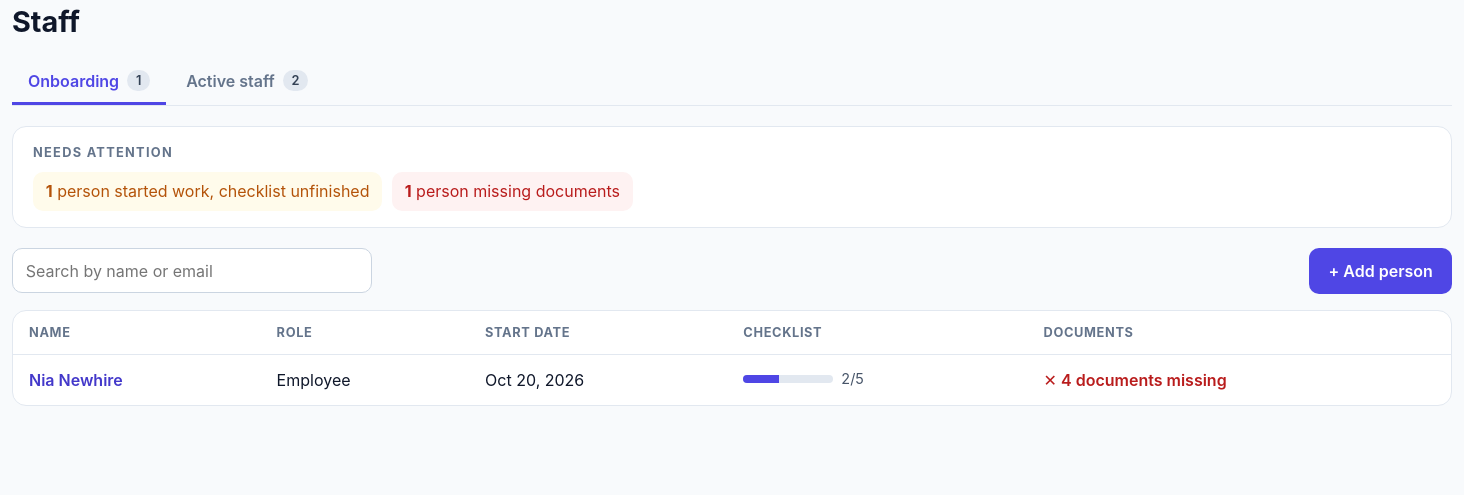
Scenario: Dashboard › searches as you type
Click the tab "Active staff 2". click: {"x": 247, "y": 82}
box: [170,59,324,105]
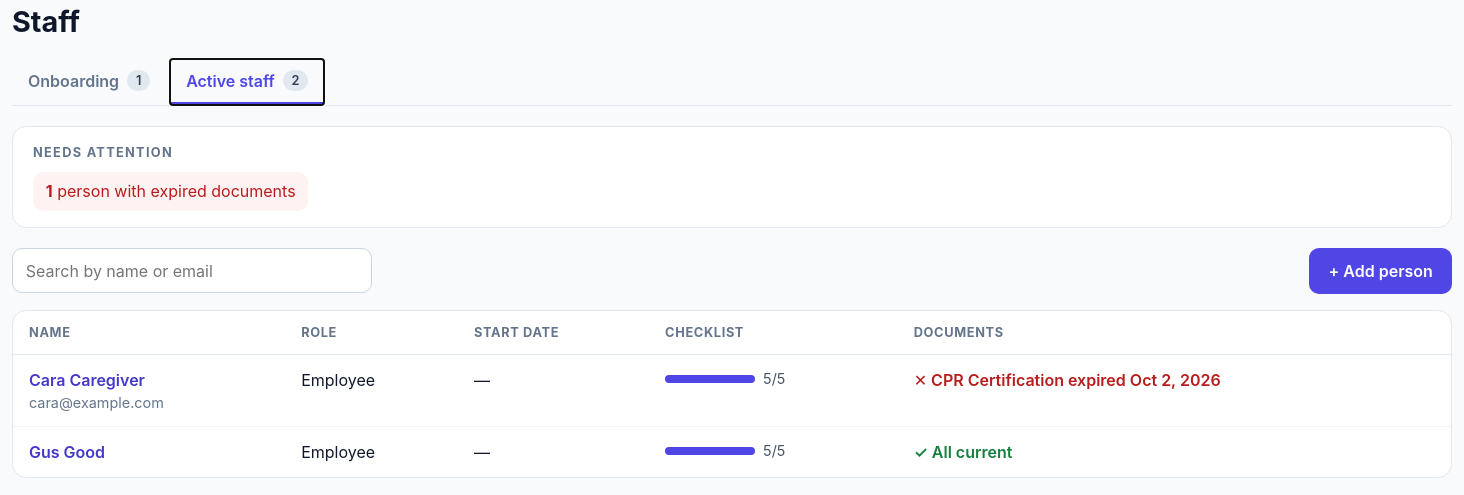
Result: the link "Gus Good" is shown at [29,440,105,464]
Type "cara" into the search field. click: {"x": 192, "y": 271}
box: [12,248,372,293]
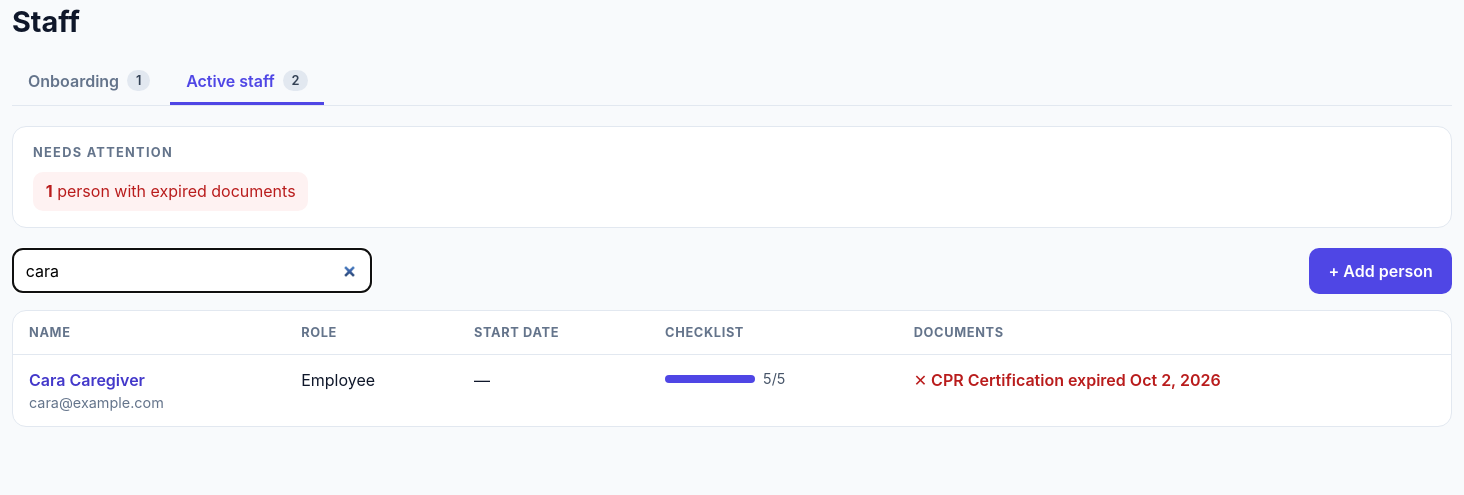
Result: the link "Cara Caregiver" is shown at [29,368,145,392]
Result: the link "Gus Good" is gone
